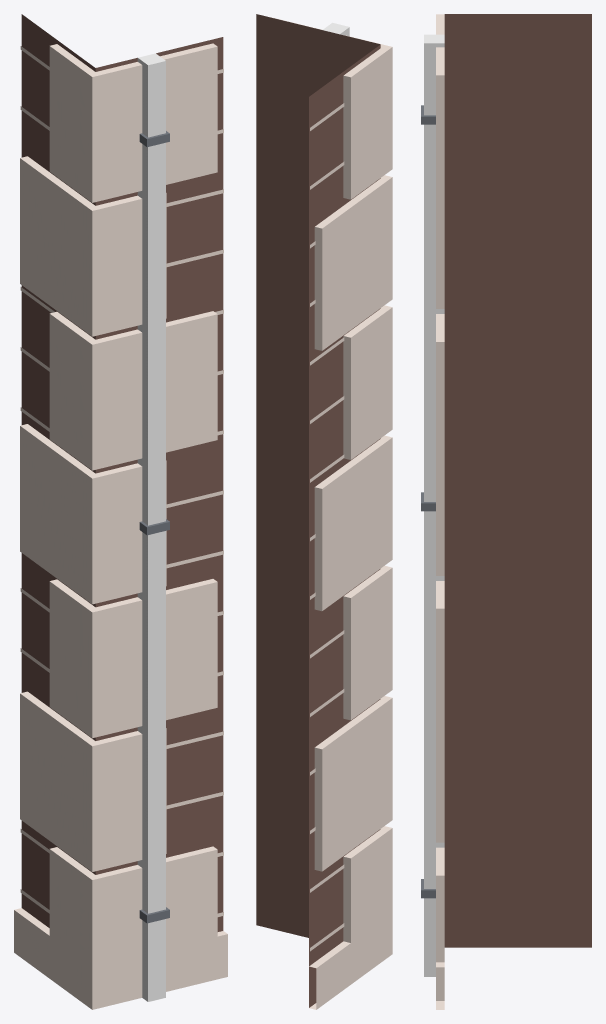
The model's file is mid-c1_close.fbx.
The picture shows the model from 3 angles, left to right: view 1: azimuth 30°, elevation 25°; view 2: azimuth 150°, elevation 25°; view 3: azimuth 270°, elevation 25°; orthographic projection. The views are drawn at different scales.
Visible parts, largest first — view 1: a2000s2/800/mid-c1_close; view 2: a2000s2/800/mid-c1_close; view 3: a2000s2/800/mid-c1_close.
Boxes of the visible parts, box(x1,y1,x2,y2) form: a2000s2/800/mid-c1_close: box(14, 14, 227, 1009); a2000s2/800/mid-c1_close: box(256, 14, 392, 1009); a2000s2/800/mid-c1_close: box(421, 14, 591, 1009).
Size of the model in its own units: 0.53 by 3.5 by 0.58.
